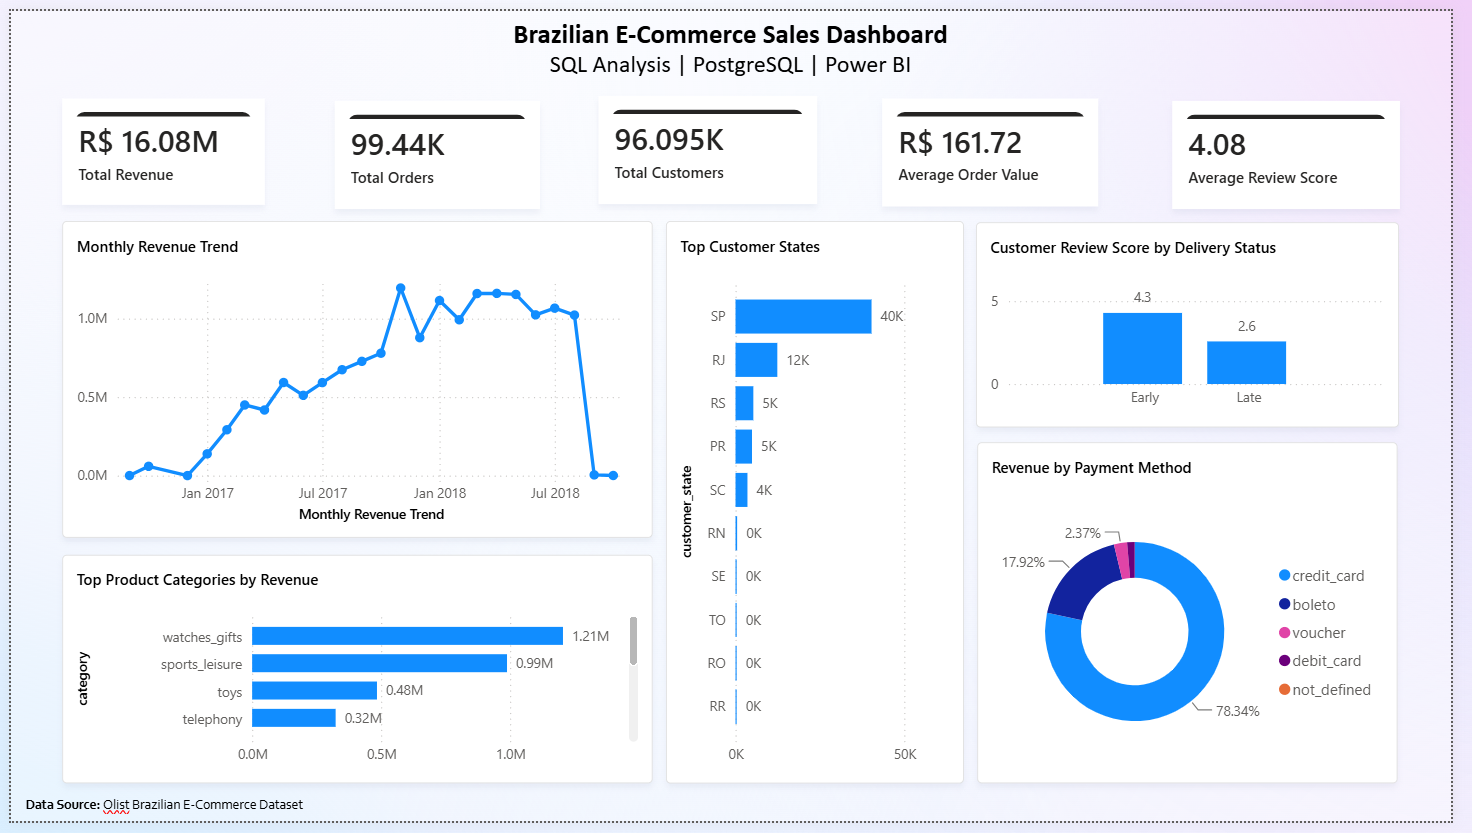

What the dashboard file says about the page in this screenshot:
{"tool":"powerbi","page":{"name":"Page 1","canvas":[1280,720],"ordinal":0},"visuals":[{"type":"textbox","box":[416,0,448,82],"z":0},{"type":"cardVisual","fields":{"Data":["Sum(kpi_summary.total_revenue)"]},"box":[46,78,180,94],"z":1000},{"type":"cardVisual","fields":{"Data":["Sum(kpi_summary.total_orders)"]},"box":[288,80,182,96],"z":2000},{"type":"cardVisual","fields":{"Data":["Sum(kpi_summary.total_customers)"]},"box":[522,76,194,96],"z":3000},{"type":"cardVisual","fields":{"Data":["Sum(kpi_summary.average_review_score)"]},"box":[1032,80,202,96],"z":4000},{"type":"cardVisual","fields":{"Data":["Sum(kpi_summary.average_order_value)"]},"box":[774,78,192,96],"z":5000},{"type":"clusteredBarChart","title":"Top Customer States","fields":{"Y":["Sum(customer_states.total_customers)"],"Category":["customer_states.customer_state"]},"box":[582.5,187,265,500],"z":6000},{"type":"donutChart","title":"Revenue by Payment Method","fields":{"Category":["payment_method.payment_type"],"Y":["Sum(payment_method.revenue)"]},"box":[859.2,383.7,373.3,303.3],"z":7000},{"type":"clusteredColumnChart","title":"Customer Review Score by Delivery Status","fields":{"Category":["delivery_reviews.delivery_status"],"Y":["Sum(delivery_reviews.average_review_score)"]},"box":[858,188,376,182],"z":8000},{"type":"lineChart","title":"Monthly Revenue Trend","fields":{"Y":["Sum(monthly_performance.revenue)"],"Category":["monthly_performance.month"]},"box":[45.9,187,525,281.7],"z":9000},{"type":"clusteredBarChart","title":"Top Product Categories by Revenue","fields":{"Category":["top_categories.category"],"Y":["Sum(top_categories.revenue)"]},"box":[45.9,483.7,525,203.3],"z":10000},{"type":"textbox","box":[7.5,690,280,30],"z":10001}]}

Visuals, with their boxes in screenshot pixels (x1, y1, x2, y2), scaled from the page's 1280x720 canvas onto the 1472x833 screenshot:
textbox: x1=478, y1=0, x2=994, y2=95
cardVisual - Sum(kpi_summary.total_revenue): x1=53, y1=90, x2=260, y2=199
cardVisual - Sum(kpi_summary.total_orders): x1=331, y1=93, x2=540, y2=204
cardVisual - Sum(kpi_summary.total_customers): x1=600, y1=88, x2=823, y2=199
cardVisual - Sum(kpi_summary.average_review_score): x1=1187, y1=93, x2=1419, y2=204
cardVisual - Sum(kpi_summary.average_order_value): x1=890, y1=90, x2=1111, y2=201
"Top Customer States" clusteredBarChart: x1=670, y1=216, x2=975, y2=795
"Revenue by Payment Method" donutChart: x1=988, y1=444, x2=1417, y2=795
"Customer Review Score by Delivery Status" clusteredColumnChart: x1=987, y1=218, x2=1419, y2=428
"Monthly Revenue Trend" lineChart: x1=53, y1=216, x2=657, y2=542
"Top Product Categories by Revenue" clusteredBarChart: x1=53, y1=560, x2=657, y2=795
textbox: x1=9, y1=798, x2=331, y2=832
